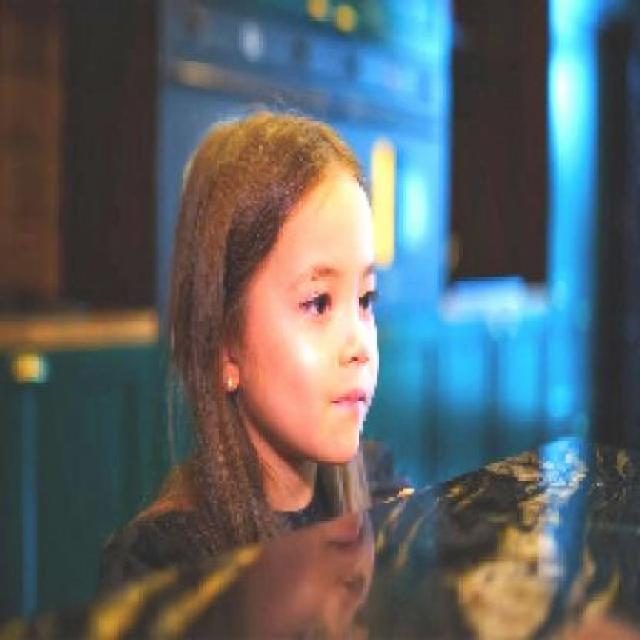child: (97, 107, 423, 590)
